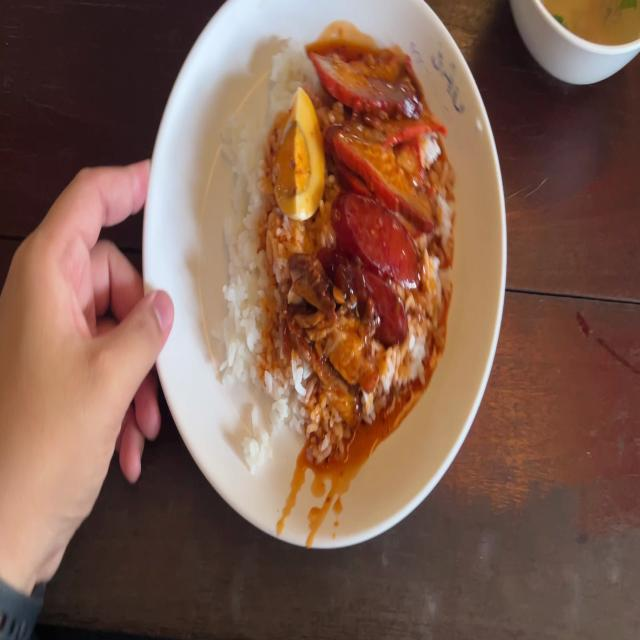01boiled_egg: (278, 93, 321, 211)
01chainese_sausage: (332, 198, 416, 332)
01crispy_pork: (286, 255, 328, 374), (322, 341, 381, 415)
01red_pork: (323, 44, 445, 204)
01red_pork_and_crispy_pork: (227, 42, 447, 448)
01rice: (225, 106, 278, 405), (247, 358, 304, 464), (264, 45, 311, 95)
